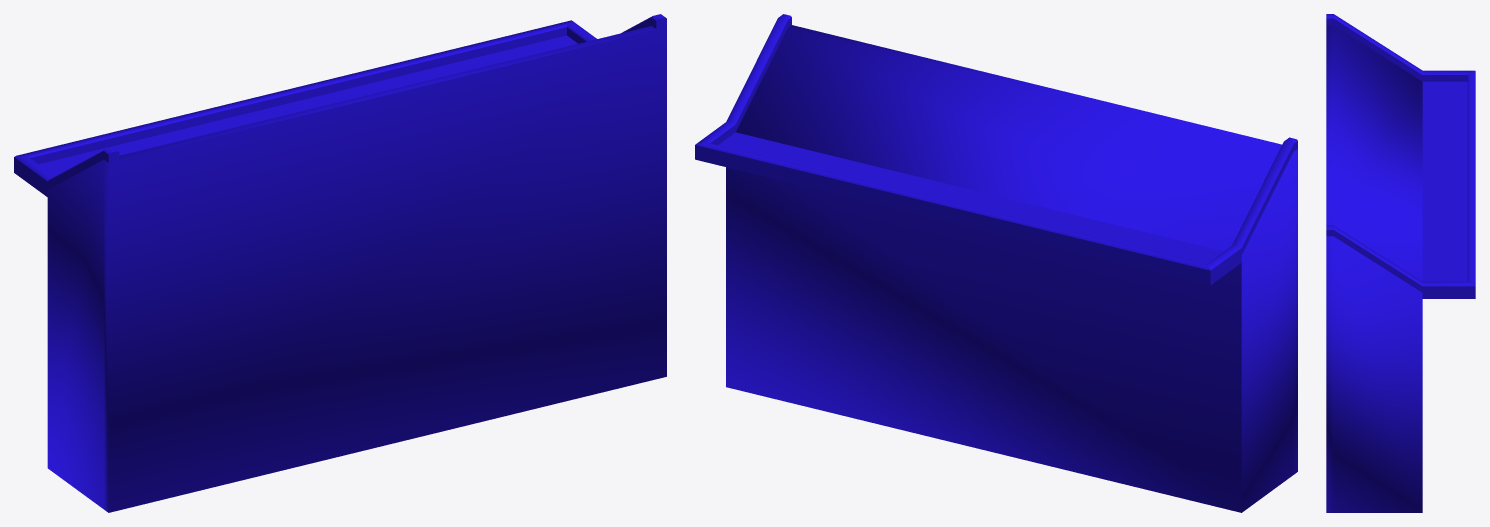
Rendered from stand1_collisionSetup.fbx.
The picture shows the model from 3 angles, left to right: view 1: azimuth 30°, elevation 25°; view 2: azimuth 150°, elevation 25°; view 3: azimuth 270°, elevation 25°; orthographic projection. The views are drawn at different scales.
Visible parts, largest first — view 1: collisionConvex, collisionCube.395, collisionCube.396; view 2: collisionConvex, collisionCube.396, collisionCube.395, collisionConvex.703, collisionConvex.704; view 3: collisionConvex, collisionCube.396, collisionCube.395, collisionConvex.703, collisionConvex.704, collisionCube.393, collisionCube.394.
Part boxes in pixels (x1,y1,x2,y2): collisionConvex: (47,26,666,512); collisionCube.395: (16,20,571,164); collisionCube.396: (14,35,577,196); collisionConvex: (726,25,1297,512); collisionCube.396: (695,132,1241,285); collisionCube.395: (695,142,1210,278); collisionConvex.703: (1232,140,1293,254); collisionConvex.704: (726,17,787,131); collisionConvex: (1326,25,1422,512); collisionCube.396: (1422,81,1475,298); collisionCube.395: (1467,70,1475,285); collisionConvex.703: (1333,14,1422,81); collisionConvex.704: (1333,225,1422,292); collisionCube.393: (1422,281,1475,292); collisionCube.394: (1422,70,1473,81).
Bounding box in the file's own units: 157 × 96.87 × 46.14.
